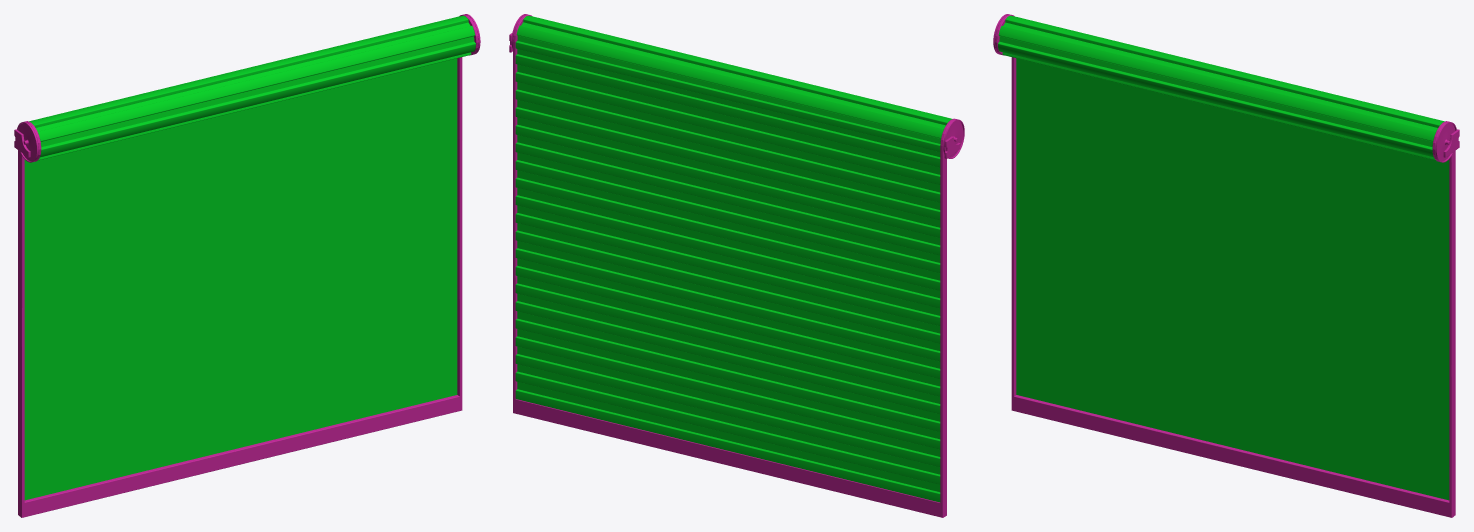
The model's file is roll_up_door_v001_LOD0.FBX.
The picture shows the model from 3 angles, left to right: view 1: azimuth 30°, elevation 25°; view 2: azimuth 150°, elevation 25°; view 3: azimuth 330°, elevation 25°; orthographic projection. The views are drawn at different scales.
Parts seen in each view (by area): view 1: Circle001; view 2: Circle001; view 3: Circle001.
Boxes of the visible parts, x1,y1,x2,y2 form: Circle001: (14,14,480,517); Circle001: (509,14,964,517); Circle001: (993,14,1459,517).
Size of the model in its own units: 309 by 264 by 25.
